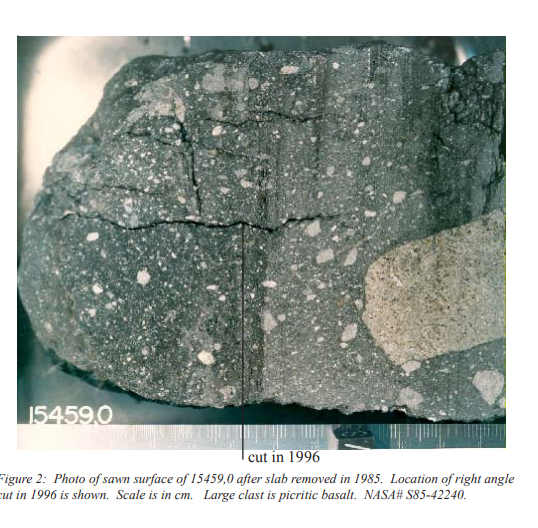Breccia: (51, 54, 501, 429)
